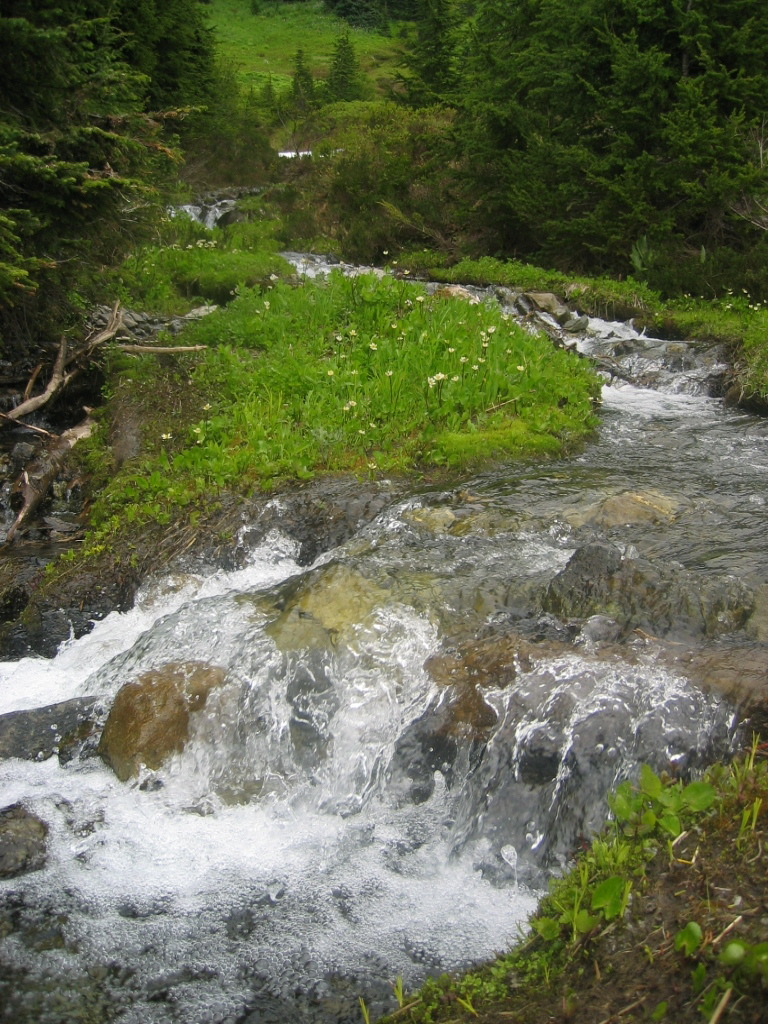Tree: (0, 0, 767, 539), (0, 0, 218, 362)
